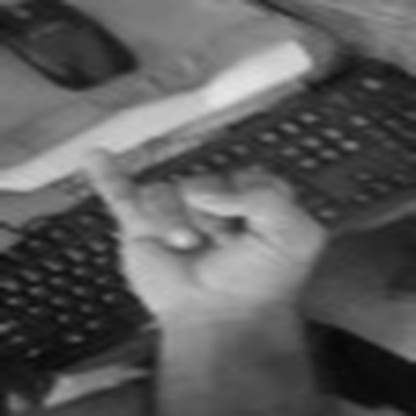i: (66, 133, 345, 320)
